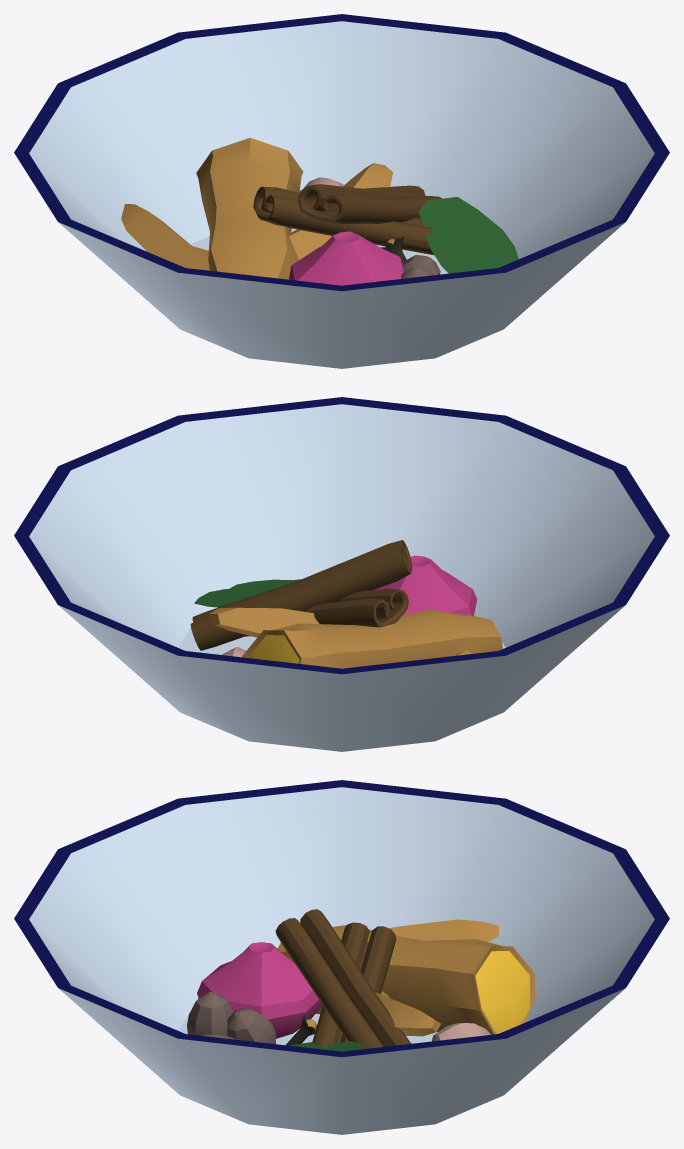
File: rempah rendang.fbx
3 views of the same model, one above another, from view 1: azimuth 30°, elevation 25°; view 2: azimuth 150°, elevation 25°; view 3: azimuth 270°, elevation 25° (orthographic).
Parts seen in each view (by area): view 1: rempah rendang; view 2: rempah rendang; view 3: rempah rendang.
Part boxes in pixels (box(x1,y1,x2,y2)): rempah rendang: box(14, 14, 669, 368); rempah rendang: box(14, 397, 669, 751); rempah rendang: box(14, 780, 669, 1134).
Size of the model in its own units: 39.88 by 9.27 by 39.88.
